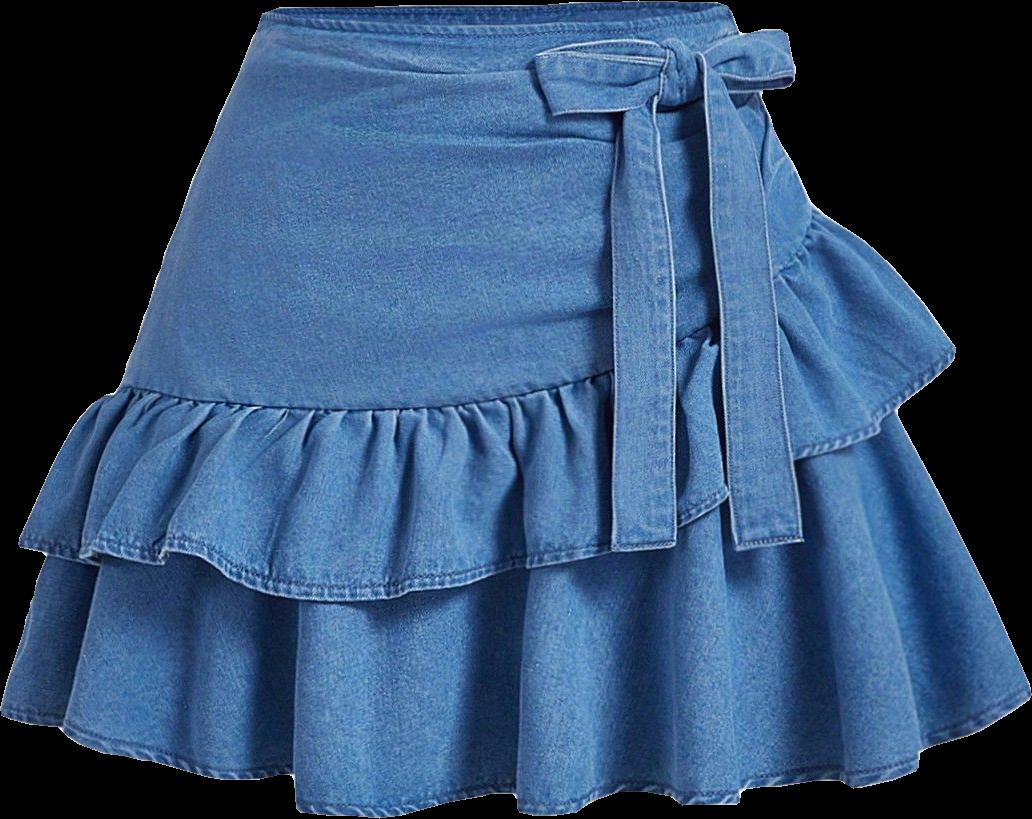Hemline: (16, 346, 960, 599), (0, 686, 1031, 818)
Waistline: (118, 204, 815, 416), (262, 4, 725, 31)
